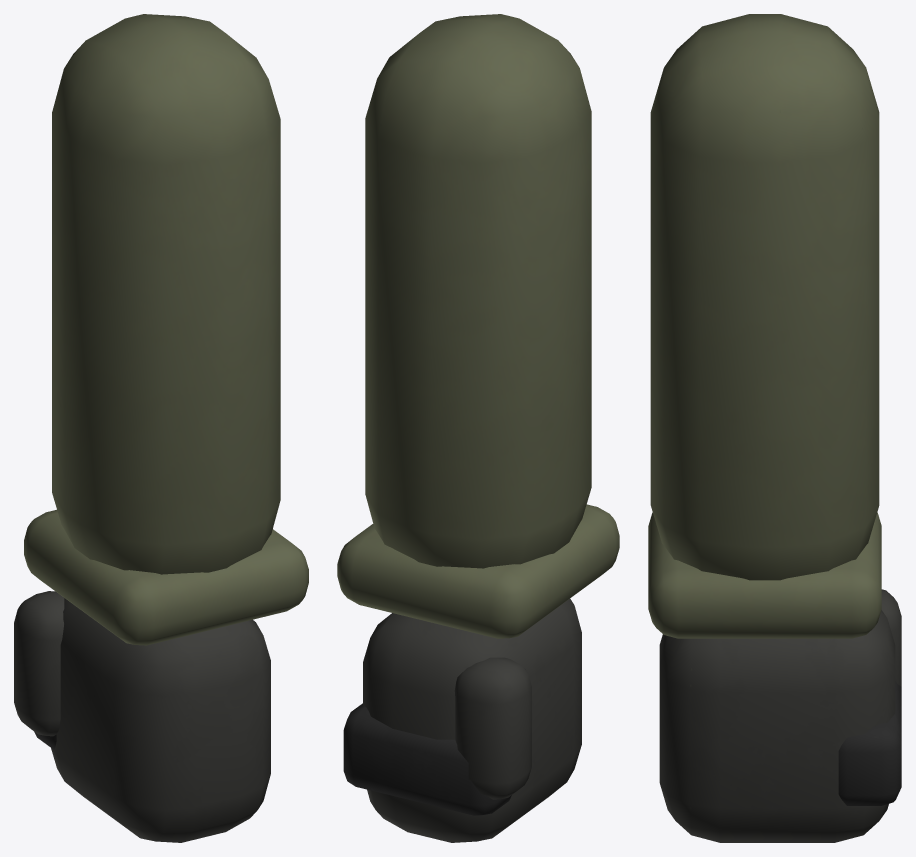
The model's file is SM_OperatorAForearm.fbx.
The picture shows the model from 3 angles, left to right: view 1: azimuth 30°, elevation 25°; view 2: azimuth 150°, elevation 25°; view 3: azimuth 270°, elevation 25°; orthographic projection. The views are drawn at different scales.
Parts seen in each view (by area): view 1: SM_OperatorAForearm; view 2: SM_OperatorAForearm; view 3: SM_OperatorAForearm.
Boxes of the visible parts, left/top/right/bottom form: SM_OperatorAForearm: left=14, top=14, right=308, bottom=842; SM_OperatorAForearm: left=337, top=14, right=619, bottom=842; SM_OperatorAForearm: left=648, top=14, right=901, bottom=842.
Size of the model in its own units: 0.09 by 0.355 by 0.102.
Materials: 1 (1 with a texture image).
